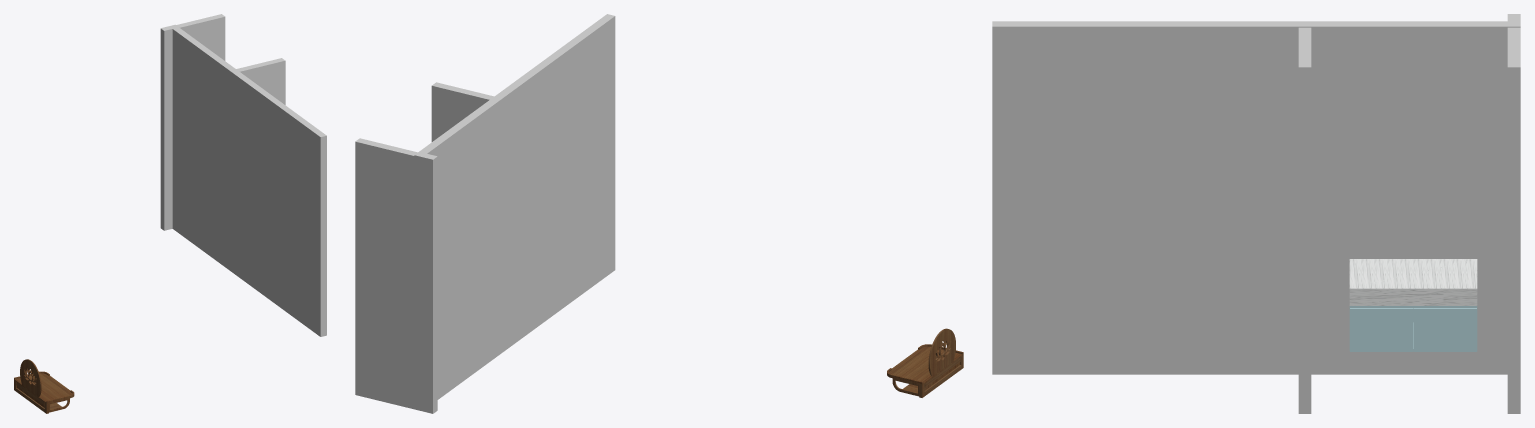
The picture shows the model from 3 angles, left to right: view 1: azimuth 30°, elevation 25°; view 2: azimuth 150°, elevation 25°; view 3: azimuth 270°, elevation 25°; orthographic projection. The views are drawn at different scales.
Parts seen in each view (by area): view 1: __LYR_[Layer0]__Group, ABF_PART_8____LYR_[Layer0]____8, ABF_PART_7____LYR_[Layer0]____7, ABF_PART_25____LYR_[Layer0]____25. [THỜ PHẬT]-MẶT BÀN THỜ GH, ABF_PART_23____LYR_[Layer0]____23. [THỜ PHẬT]-HẬU HOA SEN; view 2: __LYR_[Layer0]__Group, ABF_PART_8____LYR_[Layer0]____8, ABF_PART_7____LYR_[Layer0]____7, ABF_PART_25____LYR_[Layer0]____25. [THỜ PHẬT]-MẶT BÀN THỜ GH, ABF_PART_23____LYR_[Layer0]____23. [THỜ PHẬT]-HẬU HOA SEN; view 3: __LYR_[Layer0]__Group, ABF_PART_17____LYR_[01-MP]____17, ABF_PART_8____LYR_[Layer0]____8, ABF_PART_7____LYR_[Layer0]____7, ABF_PART_14____LYR_[02-CÁNH]____14. [LAVABO_TRỆT]-Mặt Hộc (V, ABF_PART_15____LYR_[02-CÁNH]____15. [LAVABO_TRỆT]-Mặt Hộc (V.
Boxes of the visible parts, x1,y1,x2,y2 form: __LYR_[Layer0]__Group: [160, 24, 326, 336]; ABF_PART_8____LYR_[Layer0]____8: [176, 14, 225, 60]; ABF_PART_7____LYR_[Layer0]____7: [236, 58, 285, 104]; ABF_PART_25____LYR_[Layer0]____25. [THỜ PHẬT]-MẶT BÀN THỜ GH: [14, 373, 74, 403]; ABF_PART_23____LYR_[Layer0]____23. [THỜ PHẬT]-HẬU HOA SEN: [20, 359, 41, 396]; __LYR_[Layer0]__Group: [414, 14, 615, 413]; ABF_PART_8____LYR_[Layer0]____8: [355, 138, 417, 409]; ABF_PART_7____LYR_[Layer0]____7: [431, 82, 494, 141]; ABF_PART_25____LYR_[Layer0]____25. [THỜ PHẬT]-MẶT BÀN THỜ GH: [887, 346, 963, 385]; ABF_PART_23____LYR_[Layer0]____23. [THỜ PHẬT]-HẬU HOA SEN: [928, 328, 955, 376]; __LYR_[Layer0]__Group: [992, 14, 1520, 374]; ABF_PART_17____LYR_[01-MP]____17: [1349, 259, 1477, 305]; ABF_PART_8____LYR_[Layer0]____8: [1507, 27, 1520, 413]; ABF_PART_7____LYR_[Layer0]____7: [1298, 27, 1311, 413]; ABF_PART_14____LYR_[02-CÁNH]____14. [LAVABO_TRỆT]-Mặt Hộc (V: [1413, 308, 1476, 351]; ABF_PART_15____LYR_[02-CÁNH]____15. [LAVABO_TRỆT]-Mặt Hộc (V: [1350, 308, 1413, 351].
Bounding box in the file's own units: 5.15 × 3.16 × 4.14.
Materials: 5 (3 with a texture image).
